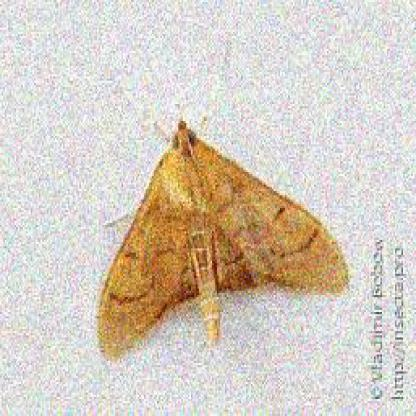Leaf Webber: (94, 110, 353, 355)
